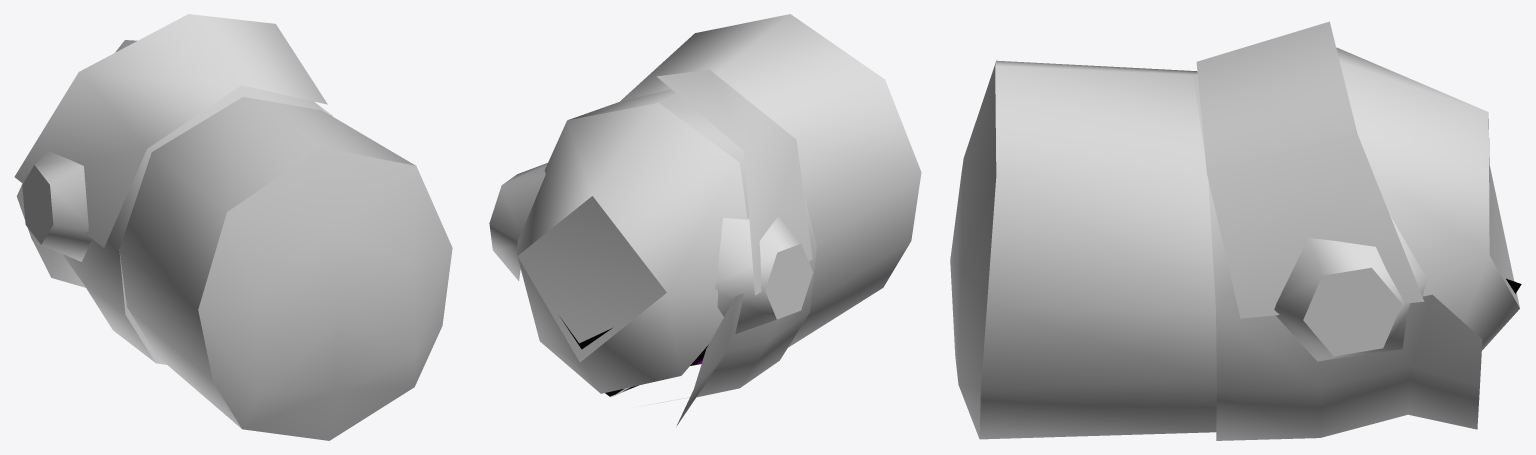
File: model_chef.glb
3 renders of one model, left to right at view 1: azimuth 30°, elevation 25°; view 2: azimuth 150°, elevation 25°; view 3: azimuth 270°, elevation 25°, orthographic. The views are drawn at different scales.
Parts seen in each view (by area): view 1: samurai.model_chef-Mesh[0]; view 2: samurai.model_chef-Mesh[0]; view 3: samurai.model_chef-Mesh[0].
Part boxes in pixels (x1=…): samurai.model_chef-Mesh[0]: x1=14, y1=14, x2=452, y2=440; samurai.model_chef-Mesh[0]: x1=489, y1=14, x2=921, y2=426; samurai.model_chef-Mesh[0]: x1=950, y1=21, x2=1519, y2=440.
Bounding box in the file's own units: 0.5155 × 0.5539 × 0.6995.
Materials: 2 (1 with a texture image).
